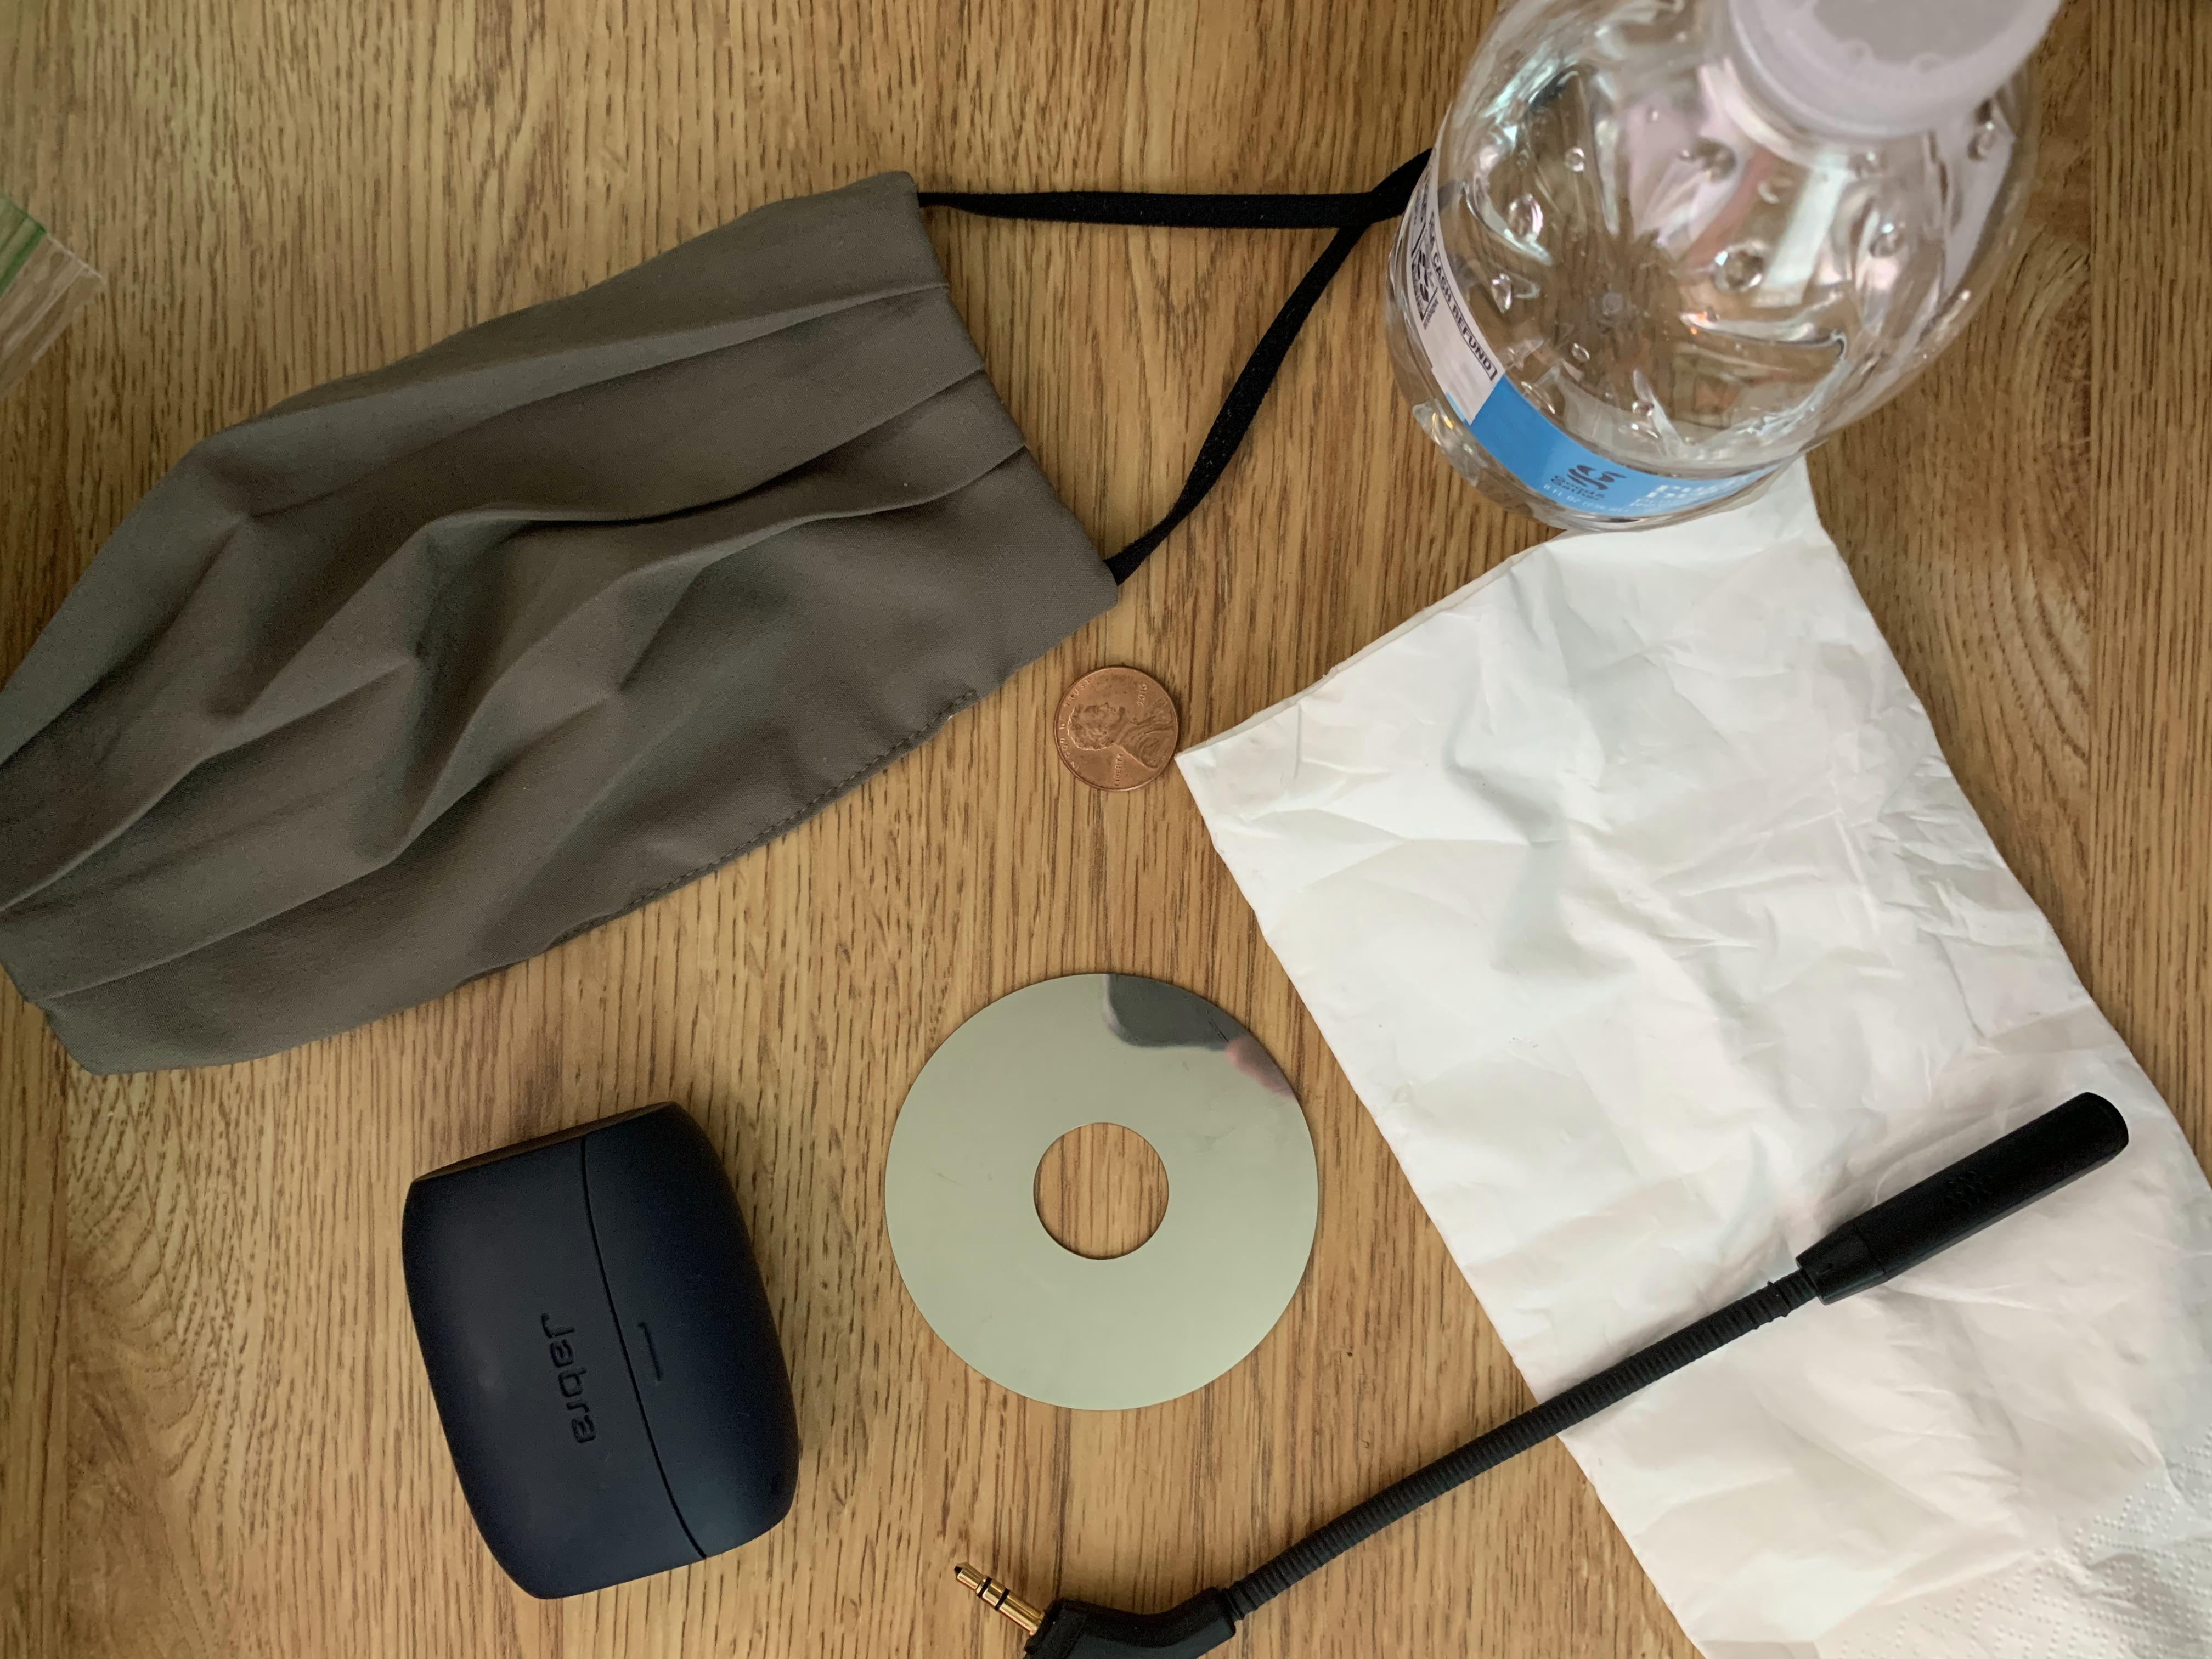Penny: (1049, 659, 1186, 795)
